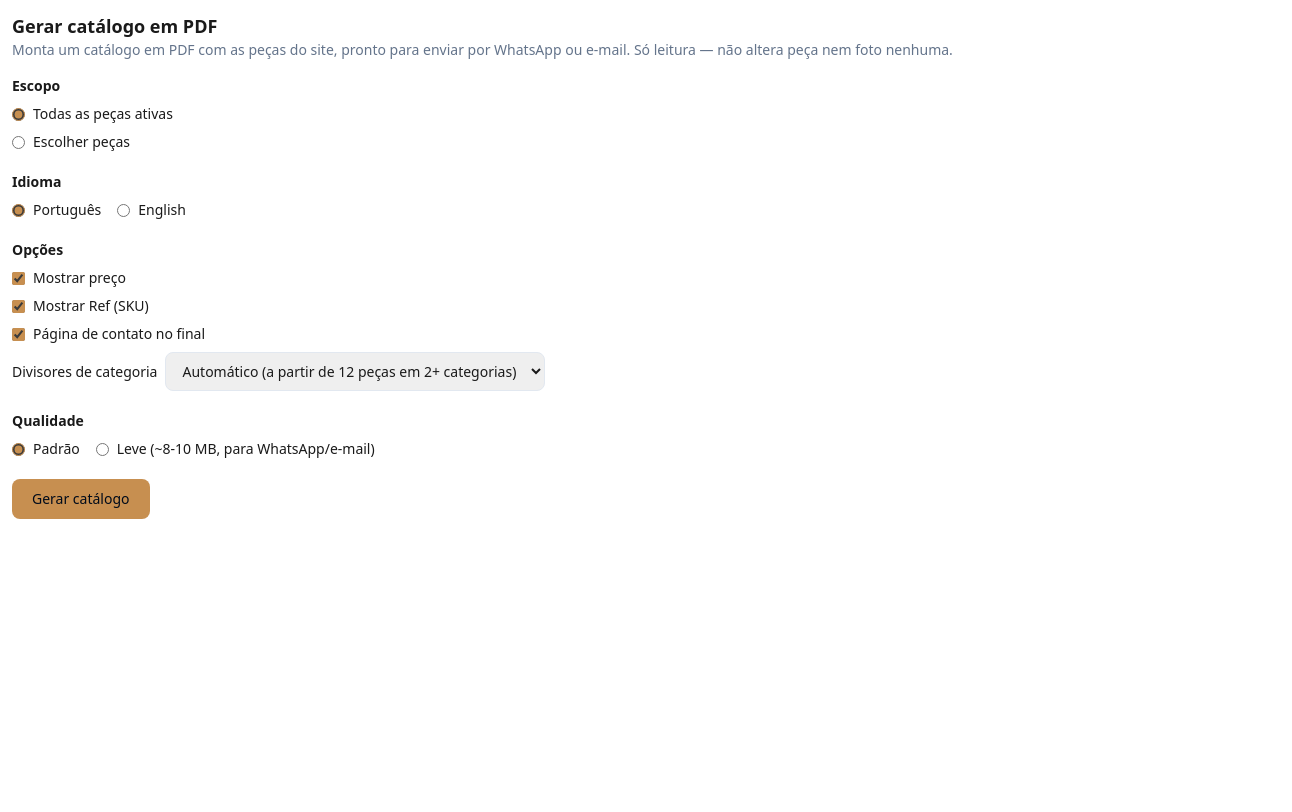
Test: CatalogGenerator › avisa cotação desatualizada quando rateSource não é 'live'
The image size is (1292, 812).
Click the radio button labelled "English" at (124, 210), box [117,204,130,216]
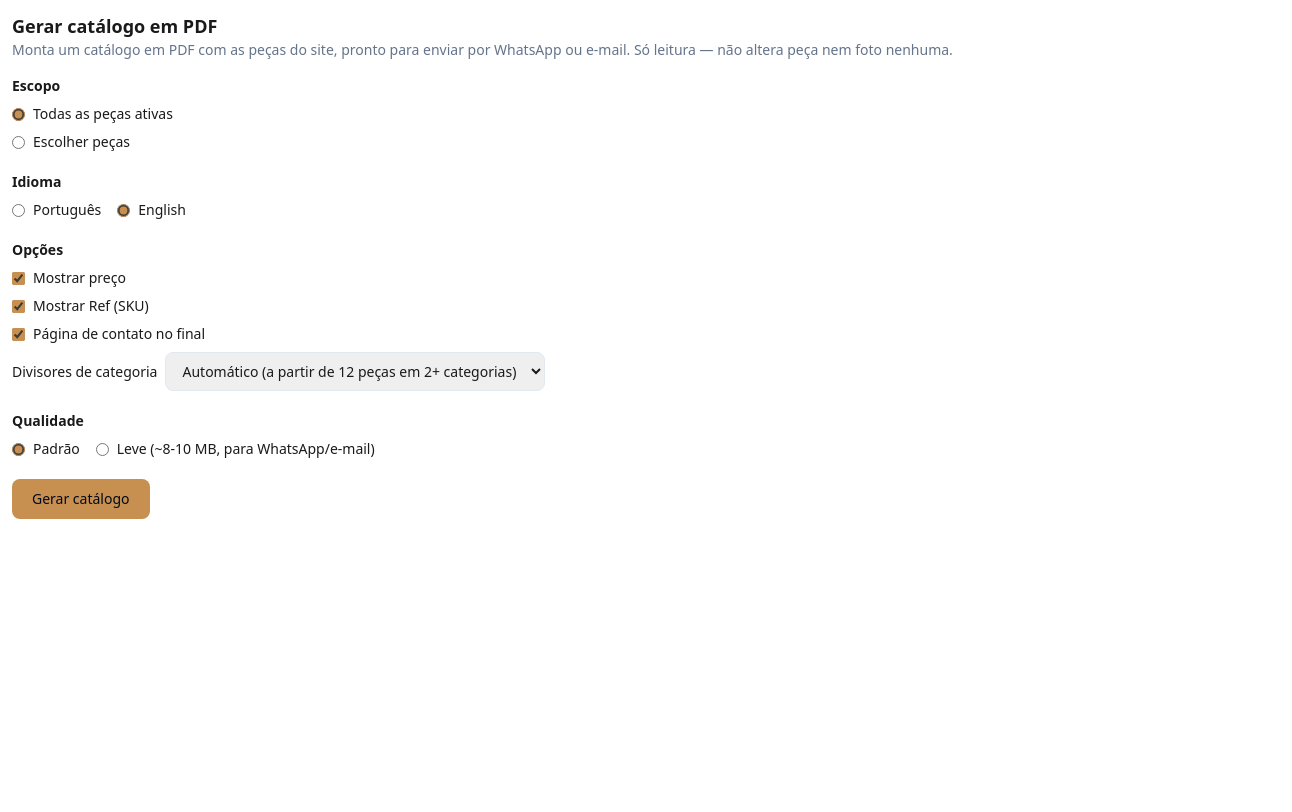
Click the button "Gerar catálogo" at (81, 499), box [12,479,150,519]
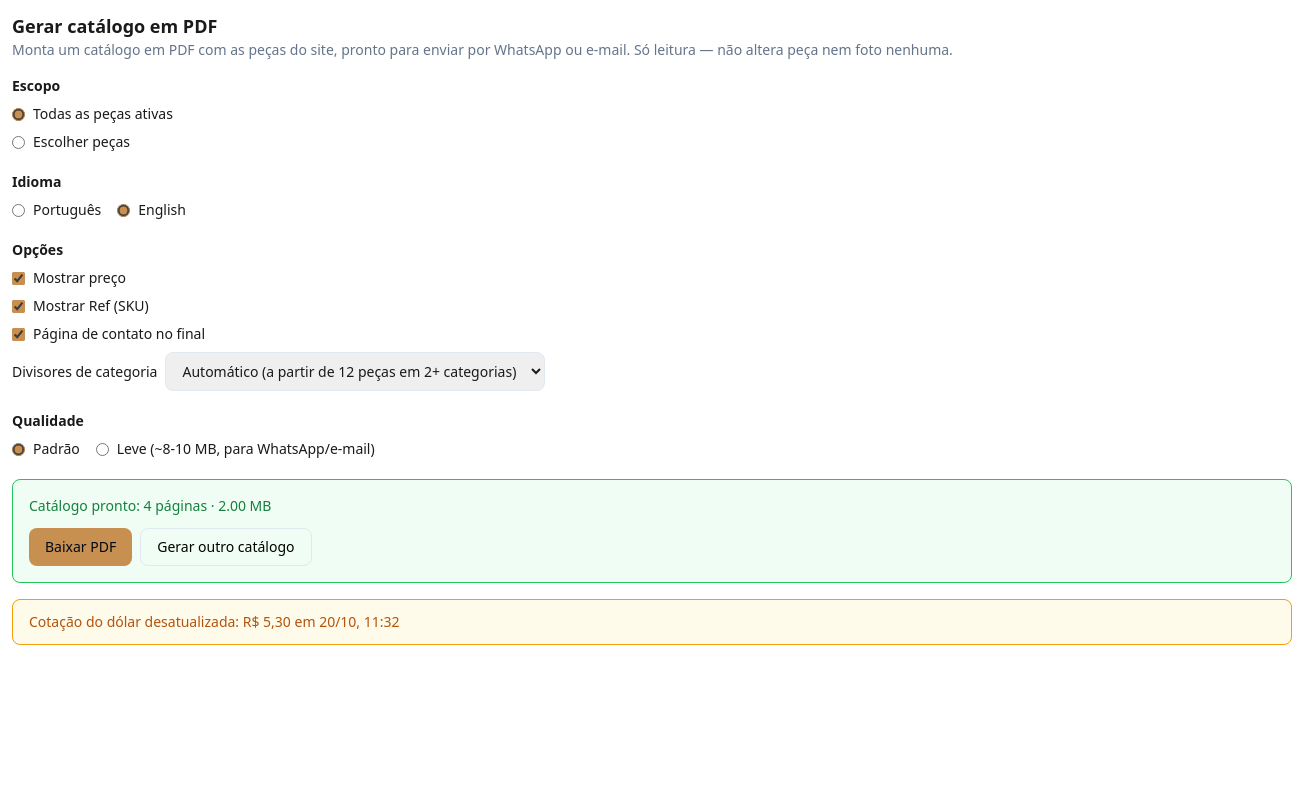
Result: the text "Cotação do dólar desatualizada: R$ 5,30 em 20/10, 11:32" is shown at [12,599,1291,645]
